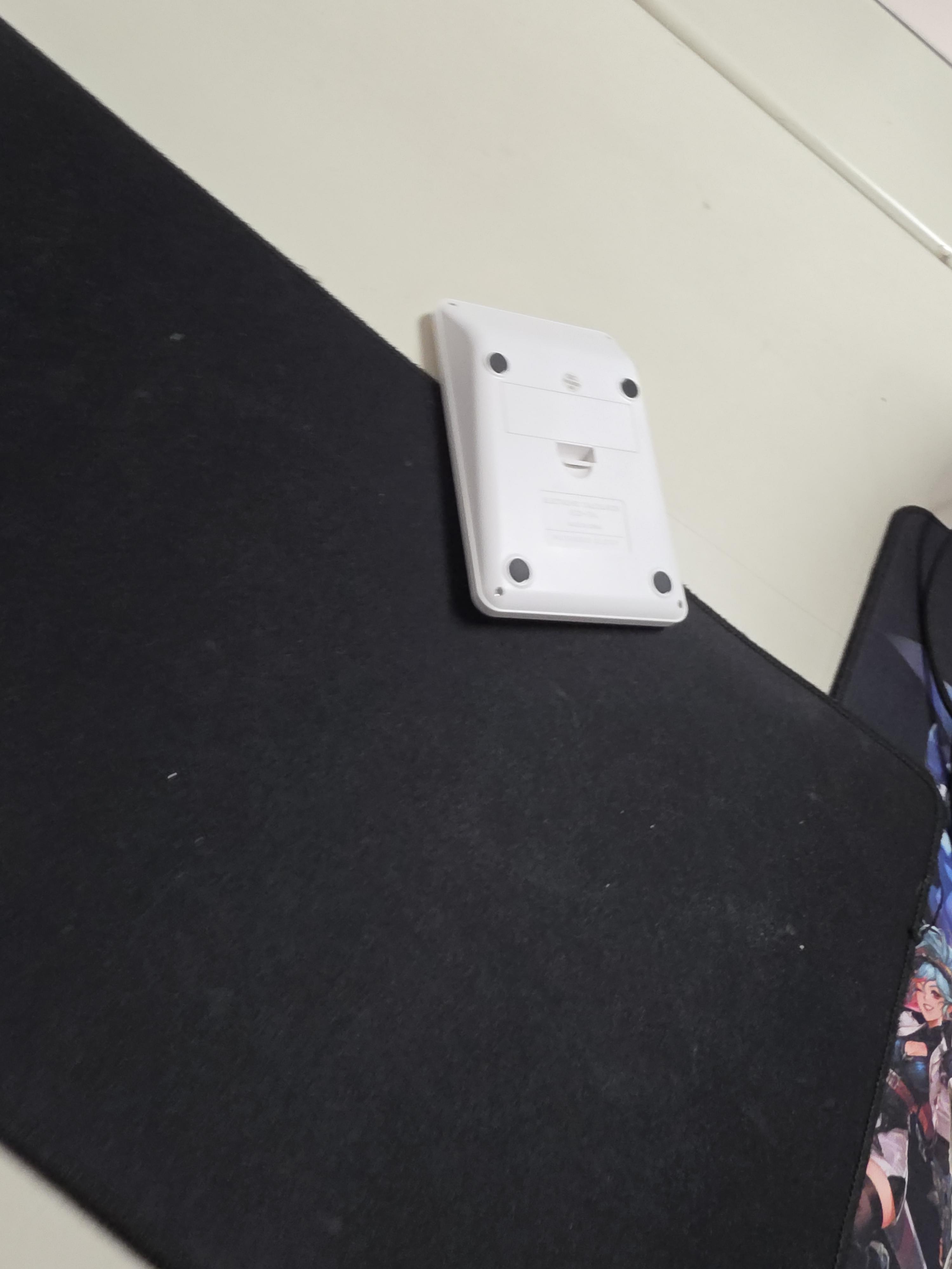calculator: (425, 298, 690, 628)
